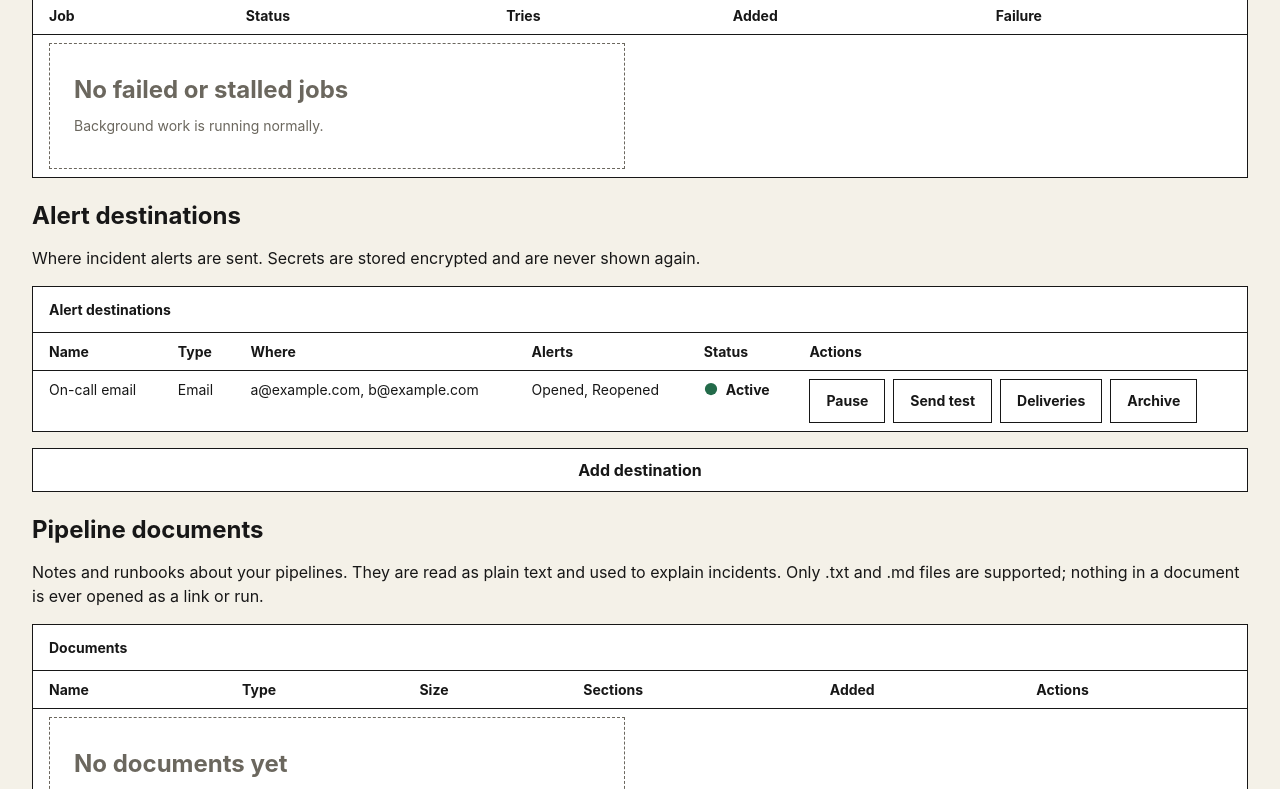
it: Alert destinations › asks before sending a test, then says it is queued
(page scrolled)
Click the button with aria-label "Send test to On-call email": point(943, 401) [893,379,992,423]
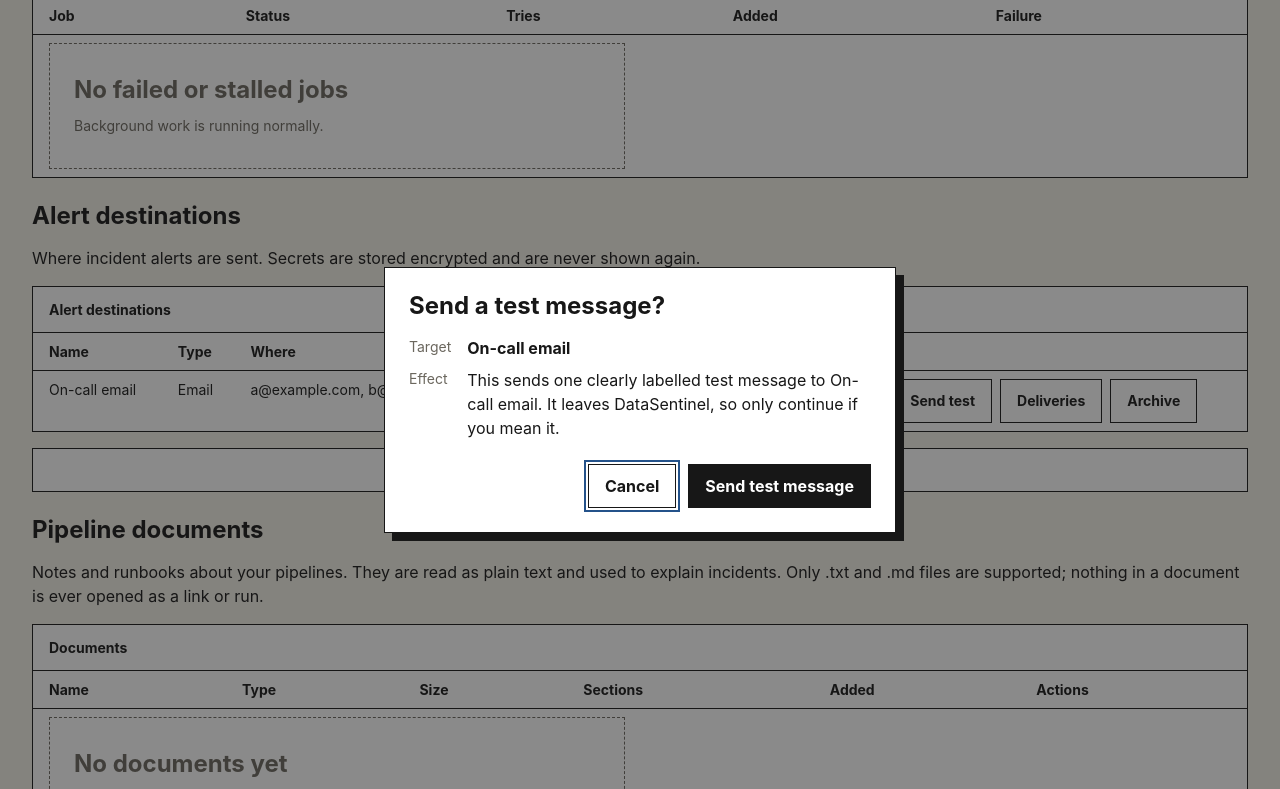
Click the button "Send test message": point(780, 486) [688,464,871,508]
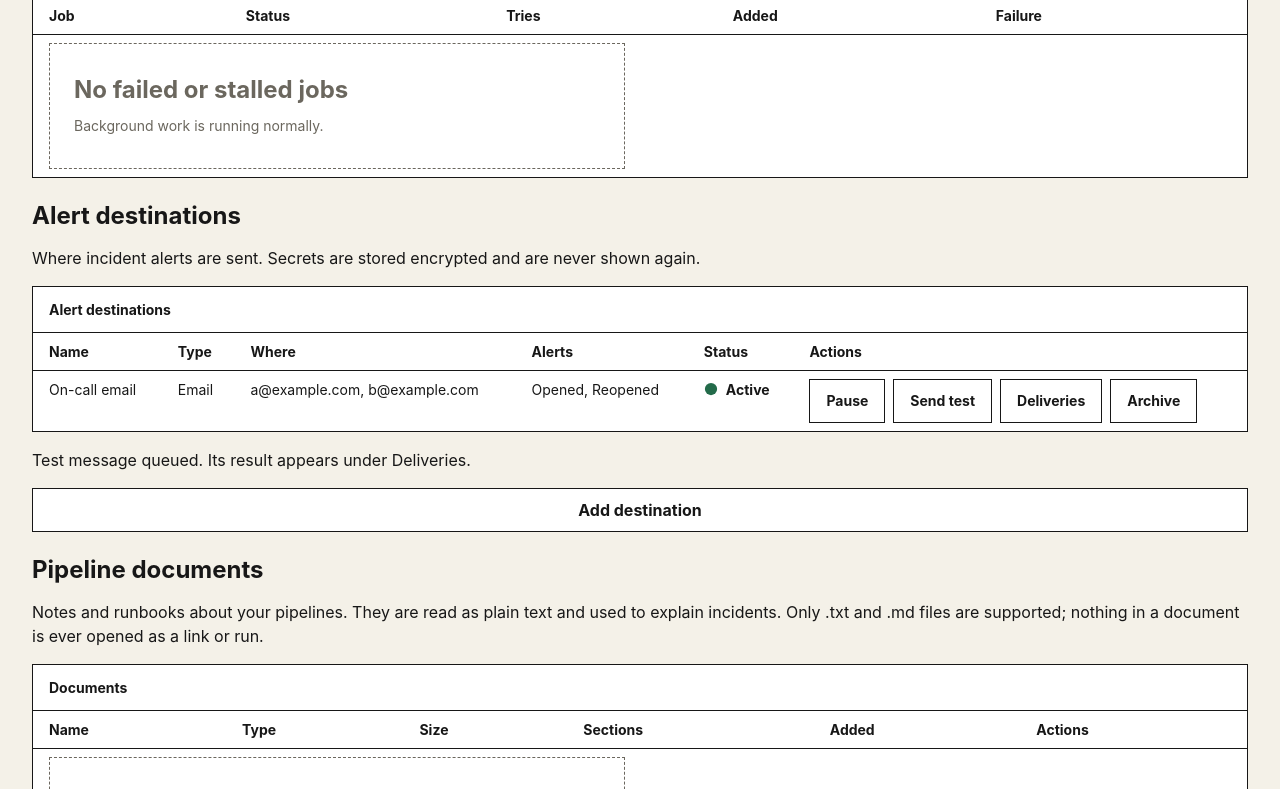
Now the text "Test message queued. Its result appears under Deliveries." is shown, box [32,450,471,470]
